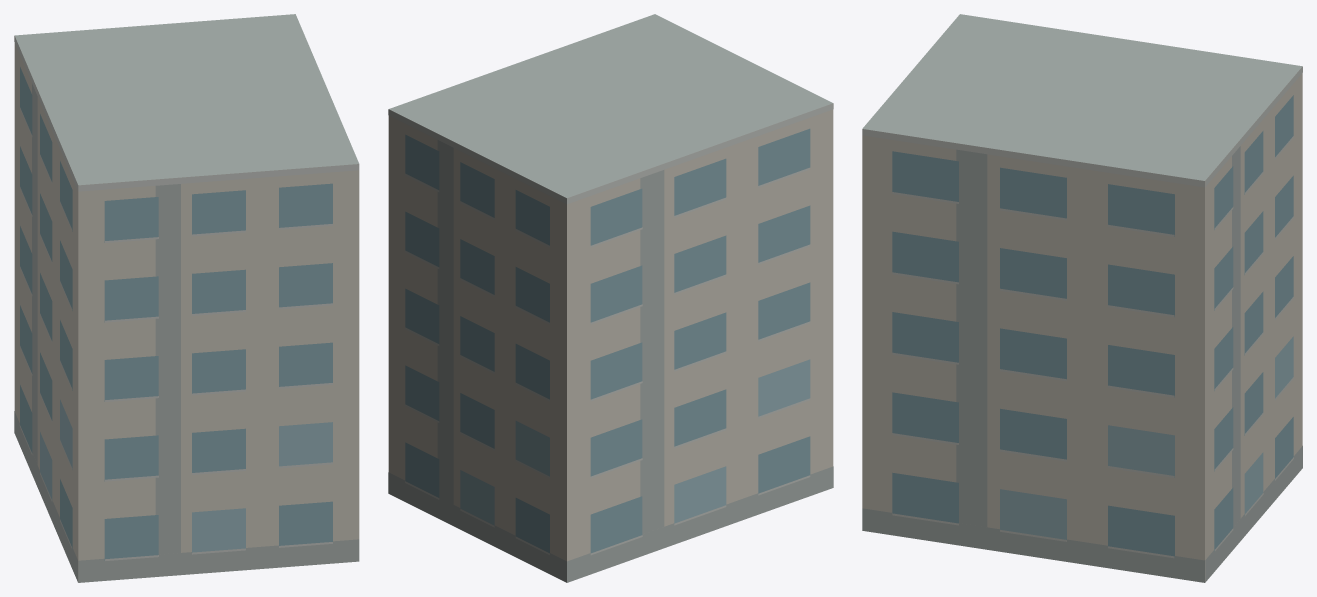
The model's file is residential-bc4fa936-7ba3-4e81-8820-945301c432f6.glb.
3 views of the same model, side by side, from view 1: azimuth 30°, elevation 25°; view 2: azimuth 150°, elevation 25°; view 3: azimuth 270°, elevation 25° (orthographic). The views are drawn at different scales.
Visible parts, largest first — view 1: residential-bc4fa936-7ba3-4e81-8820-945301c432f6.tmp; view 2: residential-bc4fa936-7ba3-4e81-8820-945301c432f6.tmp; view 3: residential-bc4fa936-7ba3-4e81-8820-945301c432f6.tmp.
Boxes of the visible parts, x1,y1,x2,y2 form: residential-bc4fa936-7ba3-4e81-8820-945301c432f6.tmp: (14, 14, 359, 582); residential-bc4fa936-7ba3-4e81-8820-945301c432f6.tmp: (388, 14, 833, 582); residential-bc4fa936-7ba3-4e81-8820-945301c432f6.tmp: (862, 14, 1302, 582).
Size of the model in its own units: 13.6 by 15.25 by 15.16.
